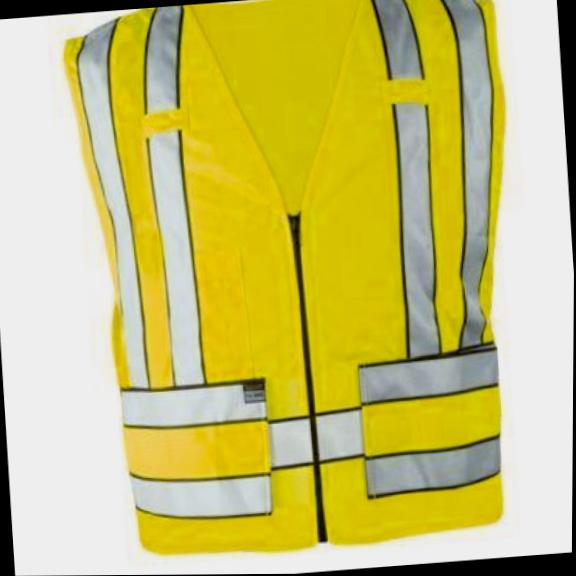safety_vest: (59, 0, 533, 569)
